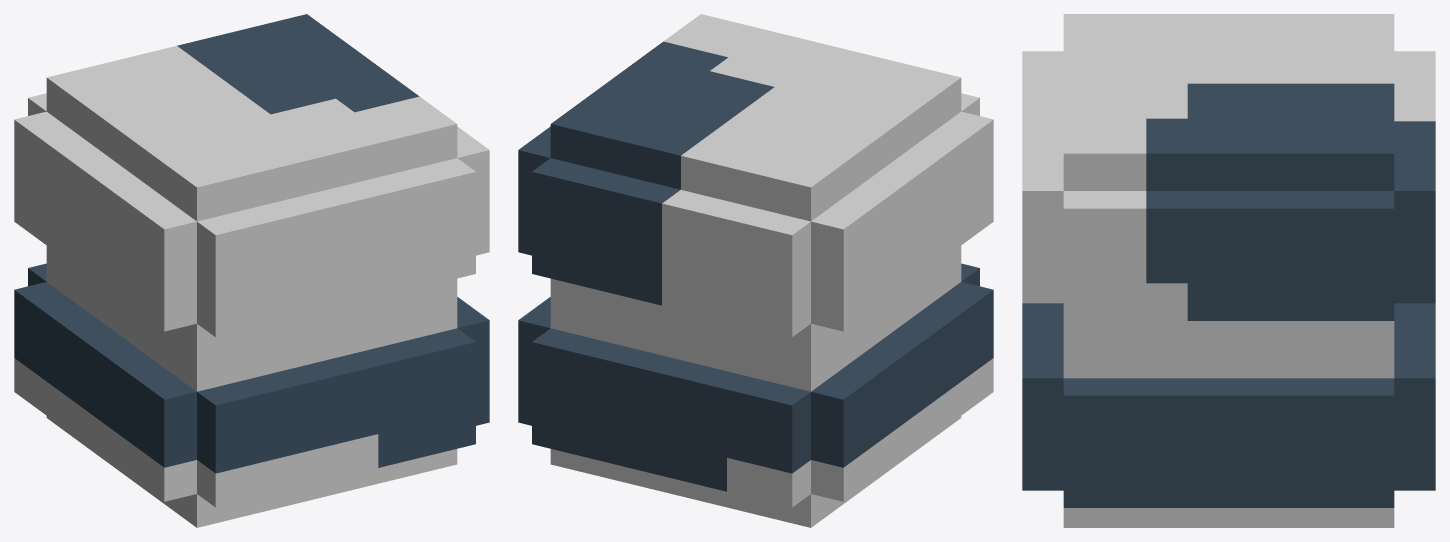
Rendered from Container_broken.fbx.
The picture shows the model from 3 angles, left to right: view 1: azimuth 30°, elevation 25°; view 2: azimuth 150°, elevation 25°; view 3: azimuth 270°, elevation 25°; orthographic projection. The views are drawn at different scales.
Visible parts, largest first — view 1: _5, _10, _6, _3, _9, _4, _11, Container, _2, _13, object 2, _8 (+2 smaller); view 2: _11, _6, object 2, _12, _5, _7, _10, Container, _2, _14, _4, _3 (+1 smaller); view 3: _9, _12, _2, _3, object 2, _6, _1, _5, _4, _13, _8, _14 (+2 smaller).
Part boxes in pixels (x1=…): _5: x1=89, y1=122, x2=313, y2=337; _10: x1=108, y1=301, x2=378, y2=473; _6: x1=14, y1=53, x2=237, y2=289; _3: x1=303, y1=96, x2=489, y2=297; _9: x1=327, y1=294, x2=489, y2=467; _4: x1=201, y1=87, x2=378, y2=313; _11: x1=14, y1=246, x2=140, y2=439; Container: x1=14, y1=358, x2=313, y2=527; _2: x1=214, y1=55, x2=419, y2=114; _13: x1=294, y1=434, x2=457, y2=503; object 2: x1=177, y1=14, x2=344, y2=65; _8: x1=294, y1=278, x2=457, y2=333; _11: x1=597, y1=301, x2=956, y2=473; _6: x1=694, y1=95, x2=937, y2=337; object 2: x1=518, y1=96, x2=698, y2=325; _12: x1=518, y1=294, x2=726, y2=491; _5: x1=807, y1=53, x2=993, y2=262; _7: x1=662, y1=142, x2=759, y2=329; _10: x1=886, y1=246, x2=993, y2=384; Container: x1=778, y1=358, x2=993, y2=527; _2: x1=607, y1=41, x2=774, y2=128; _14: x1=550, y1=449, x2=810, y2=519; _4: x1=737, y1=38, x2=862, y2=122; _3: x1=663, y1=14, x2=798, y2=78; _9: x1=1022, y1=308, x2=1270, y2=507; _12: x1=1229, y1=340, x2=1435, y2=507; _2: x1=1146, y1=83, x2=1311, y2=340; _3: x1=1022, y1=101, x2=1187, y2=320; object 2: x1=1311, y1=83, x2=1435, y2=340; _6: x1=1187, y1=14, x2=1435, y2=103; _1: x1=1270, y1=83, x2=1352, y2=340; _5: x1=1022, y1=14, x2=1187, y2=103; _4: x1=1022, y1=66, x2=1270, y2=138; _13: x1=1063, y1=508, x2=1270, y2=527; _8: x1=1063, y1=321, x2=1228, y2=340; _14: x1=1270, y1=508, x2=1394, y2=527.
Bounding box in the file's own units: 10 × 10 × 10.
